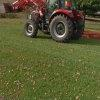Tractor: (20, 3, 89, 43)
